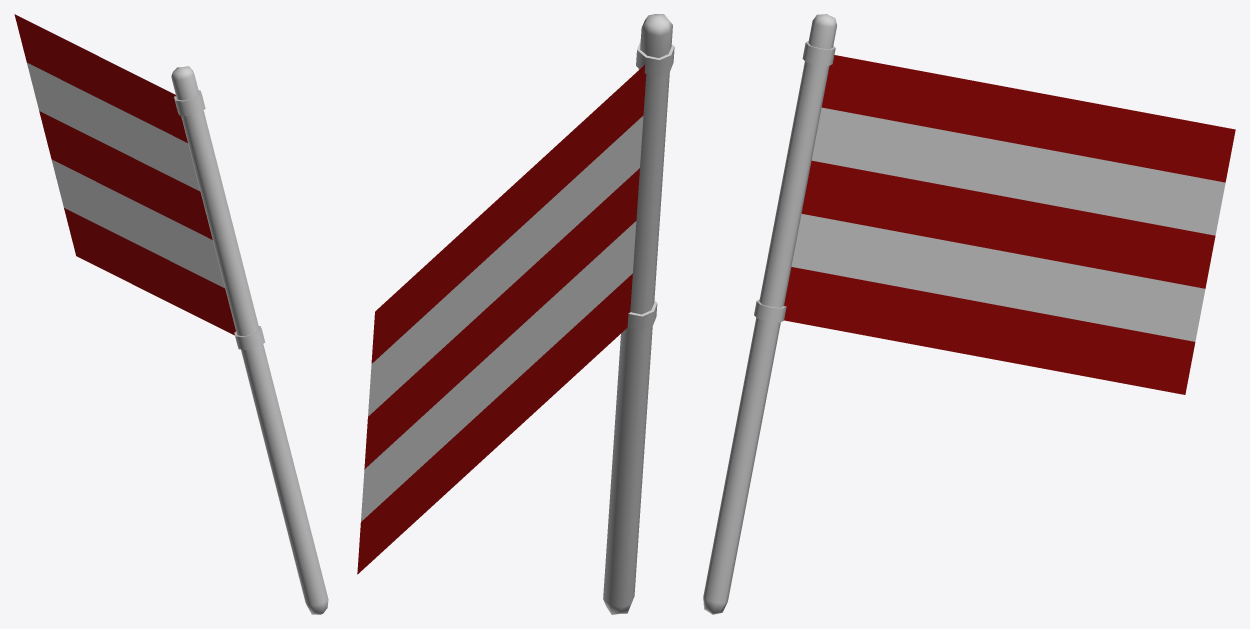
The model's file is bayrak.fbx.
The picture shows the model from 3 angles, left to right: view 1: azimuth 30°, elevation 25°; view 2: azimuth 150°, elevation 25°; view 3: azimuth 270°, elevation 25°; orthographic projection. The views are drawn at different scales.
Parts seen in each view (by area): view 1: Flag, FlagStick; view 2: Flag, FlagStick; view 3: Flag, FlagStick.
Boxes of the visible parts, x1,y1,x2,y2 form: Flag: [14, 14, 235, 335]; FlagStick: [171, 66, 328, 614]; Flag: [357, 64, 646, 574]; FlagStick: [603, 14, 674, 614]; Flag: [784, 55, 1235, 394]; FlagStick: [703, 14, 836, 614].
Bounding box in the file's own units: 3.5 × 17.25 × 14.95.
